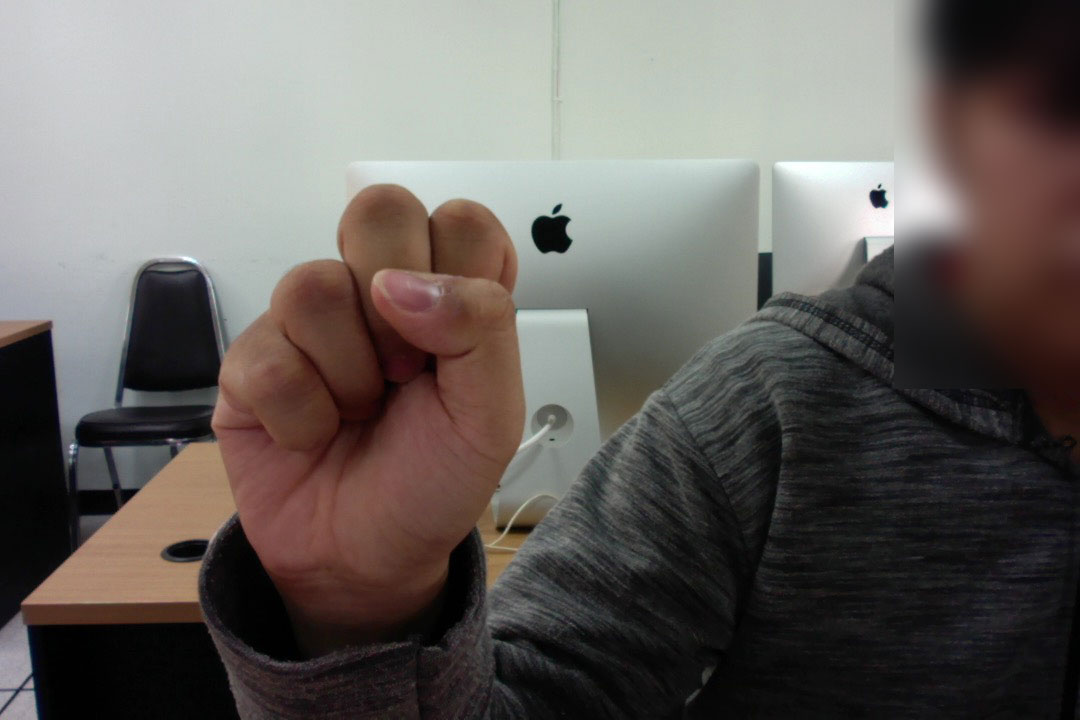sor: (205, 175, 529, 609)
